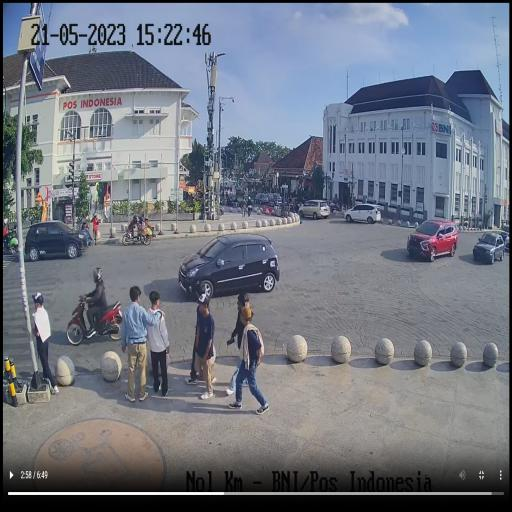mobil: (179, 234, 280, 302), (23, 217, 87, 262), (405, 216, 461, 266), (470, 224, 504, 272), (342, 201, 382, 231), (298, 195, 330, 225)
motor: (66, 278, 124, 345)
